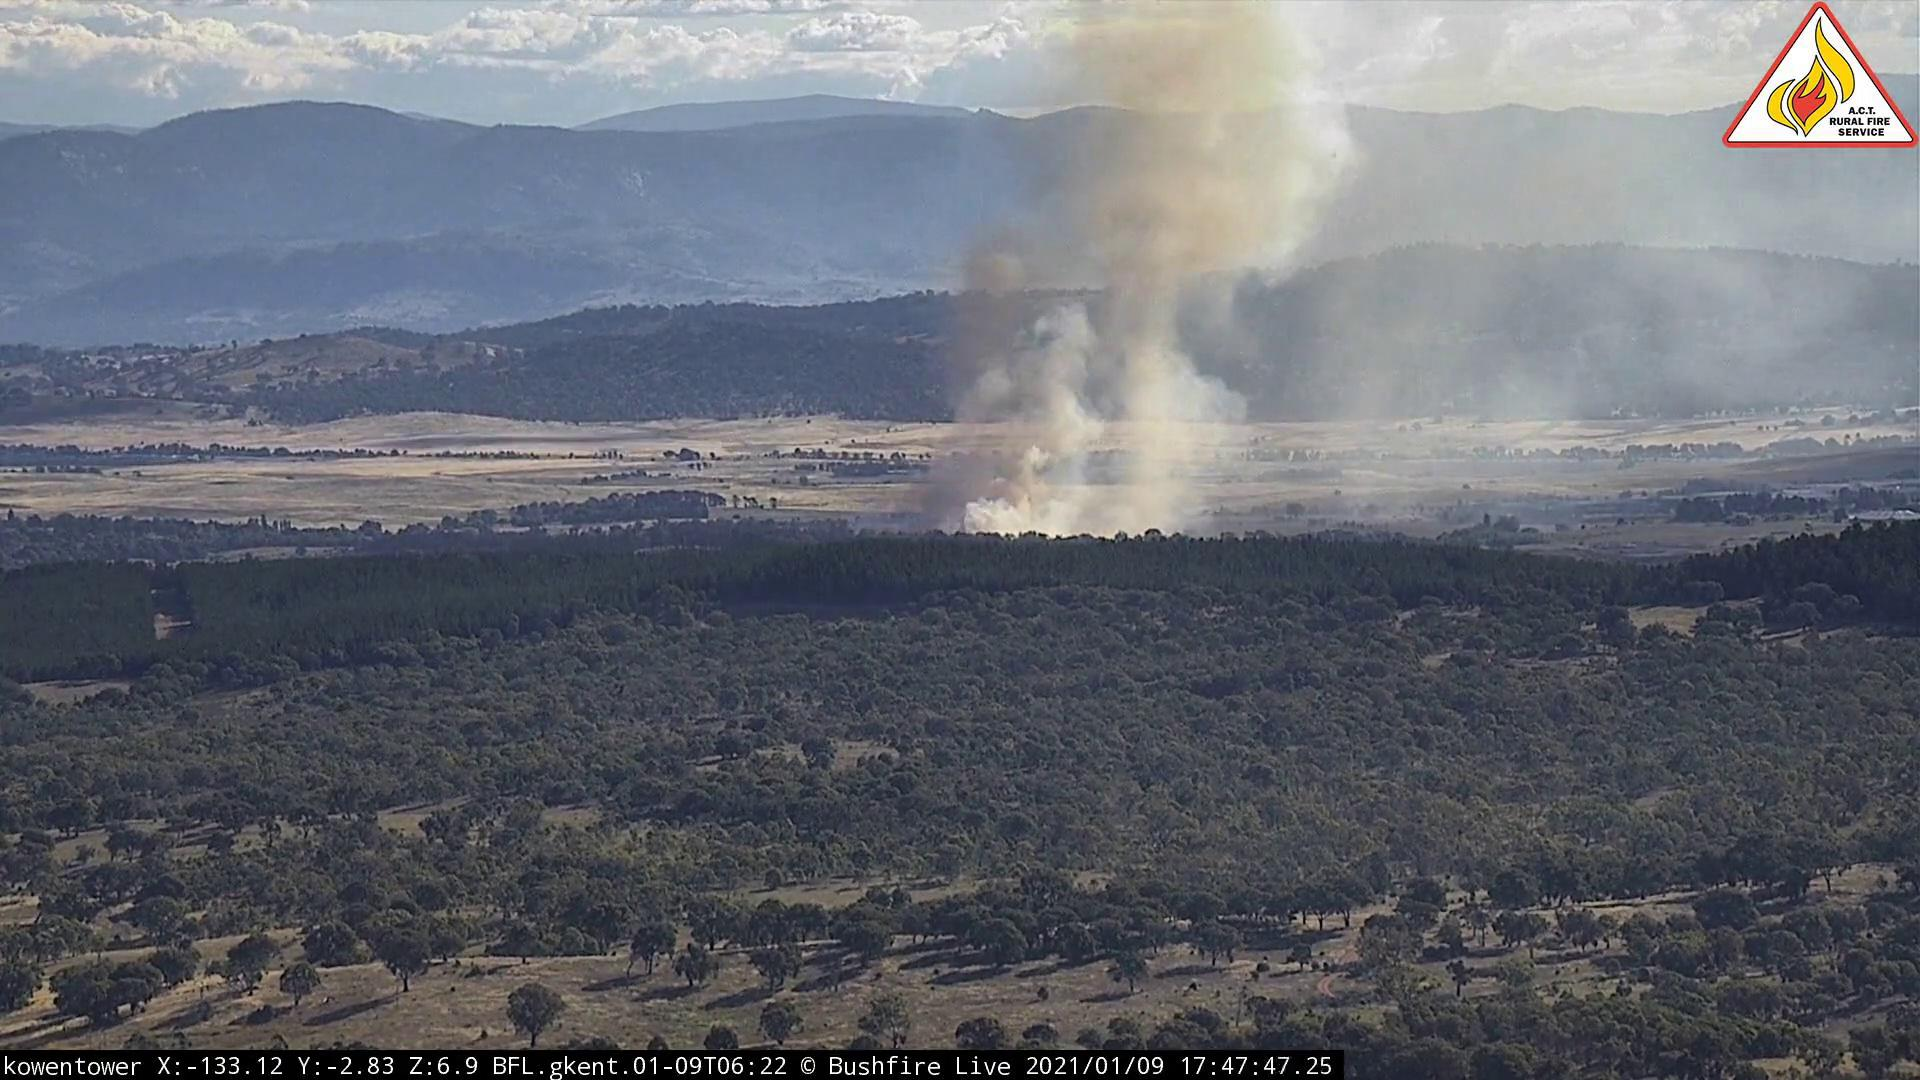instance_salient_object: (848, 3, 1717, 545)
